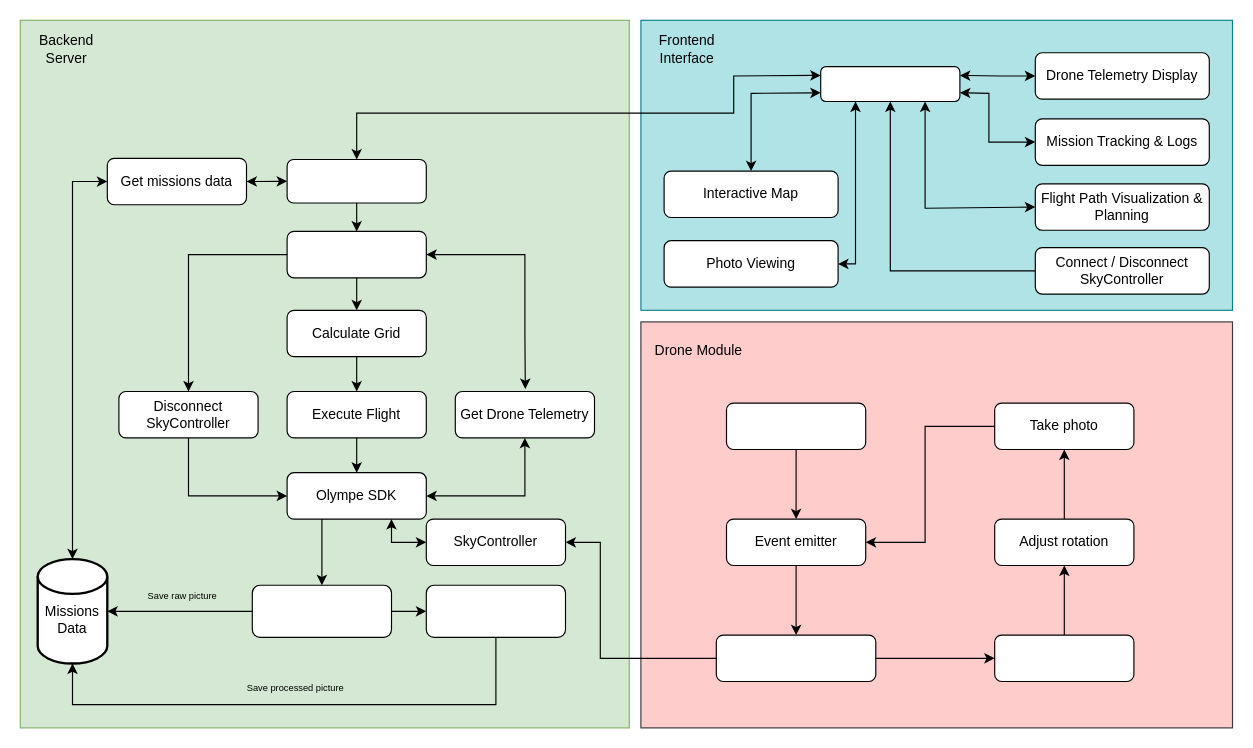
This 1253x748 diagram has some shape labels left out. Each missing label, with the box of its shape:
Connect SkyController: (286, 230, 426, 278)
Fly to waypoint: (994, 634, 1134, 682)
Receiver / Transmitter: (715, 634, 876, 682)
Request photo: (251, 584, 392, 637)
Socket.IO Client: (820, 66, 960, 102)
Socket.IO Server: (286, 158, 426, 203)
Telemetry data: (725, 402, 866, 449)
YOLO computer vision model: (425, 584, 566, 637)
